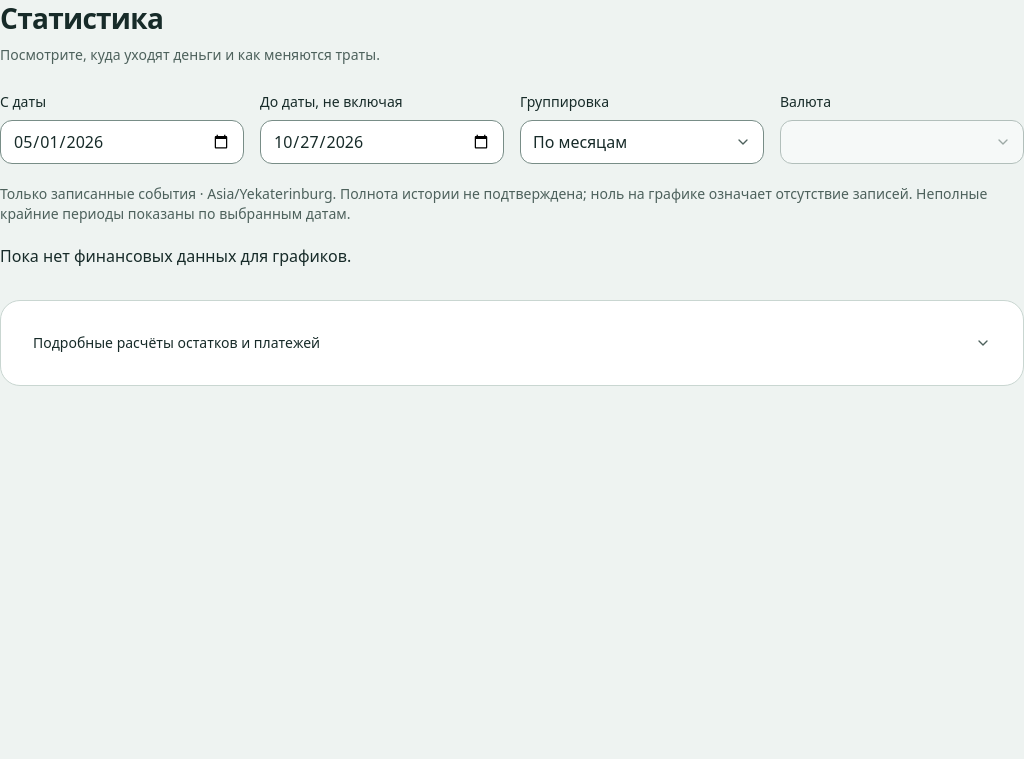
Test: shows the full statistics and folds the detailed calculations
The width and height of the screenshot is (1024, 759).
Expected: the heading "Статистика" is shown, [0, 0, 163, 37]
Expected: the element named "Статистика" is shown, [0, 91, 1023, 268]
Click the button "Подробные расчёты остатков и платежей": (177, 342) [21, 321, 1003, 365]
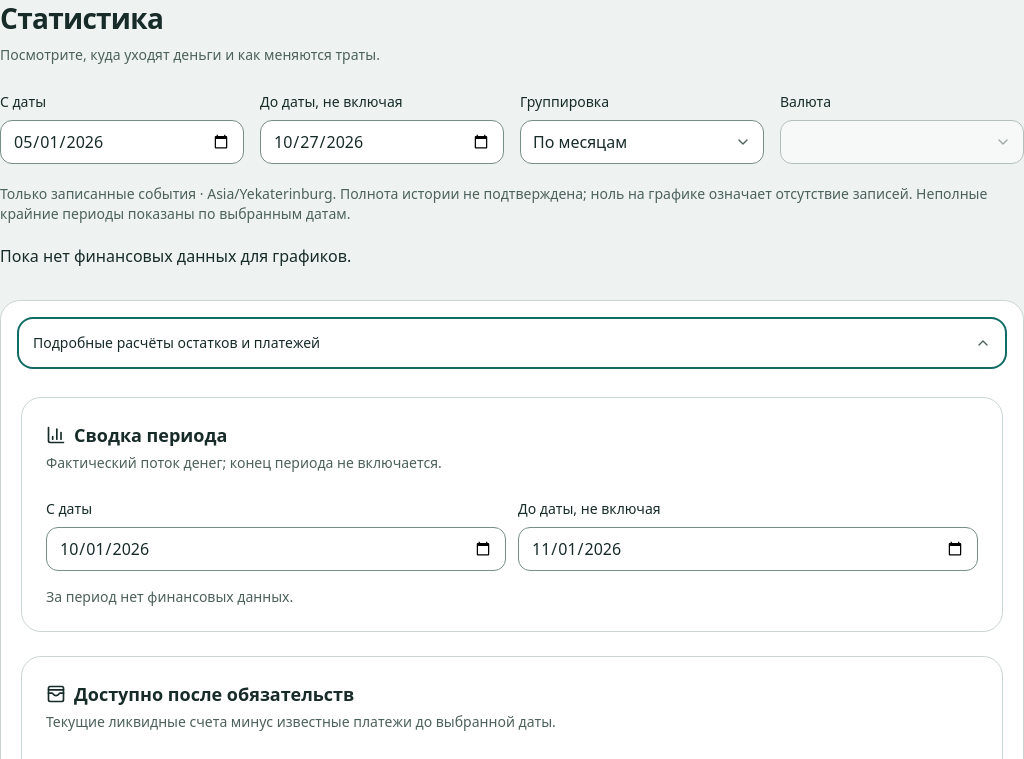
Expected: the heading "Сводка периода" is shown, [46, 423, 227, 447]
Expected: the heading "Доступно после обязательств" is shown, [46, 682, 354, 706]
Expected: the text "За период нет финансовых данных." is shown, [46, 587, 293, 606]
